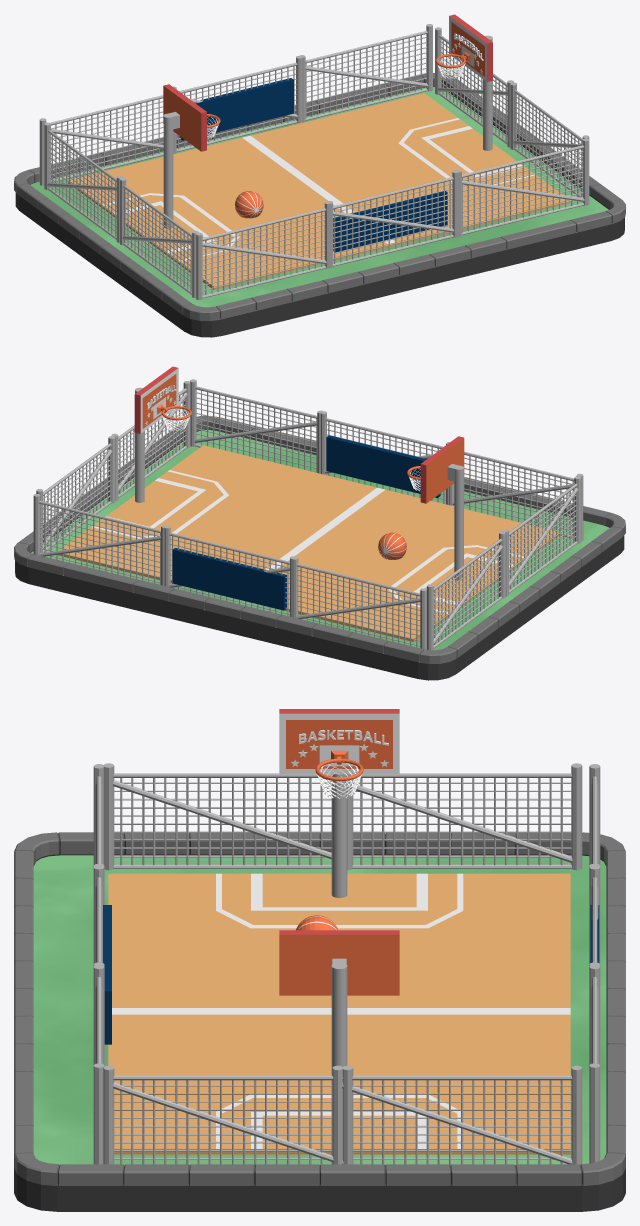
Rendered from basketballarea.fbx.
3 renders of one model, top to bottom at view 1: azimuth 30°, elevation 25°; view 2: azimuth 150°, elevation 25°; view 3: azimuth 270°, elevation 25°, orthographic. The views are drawn at different scales.
Visible parts, largest first — view 1: lv2_basketballarea; view 2: lv2_basketballarea; view 3: lv2_basketballarea.
Boxes of the visible parts, x1=… form: lv2_basketballarea: x1=14, y1=14, x2=625, y2=337; lv2_basketballarea: x1=14, y1=366, x2=625, y2=680; lv2_basketballarea: x1=14, y1=709, x2=625, y2=1211.
Bounding box in the file's own units: 3306 × 1057 × 2513.
